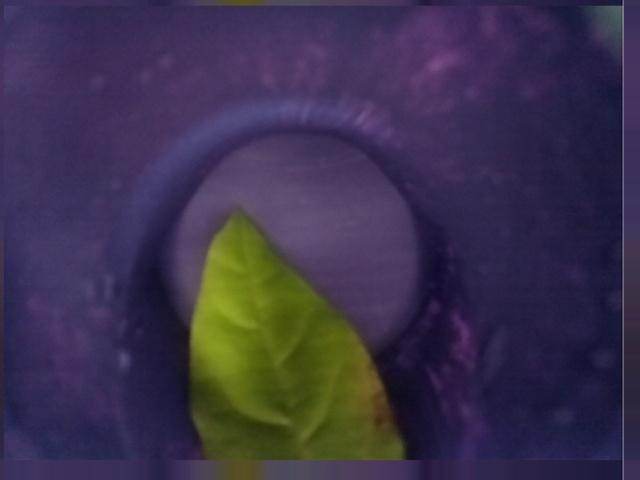feuille: (181, 201, 412, 460)
